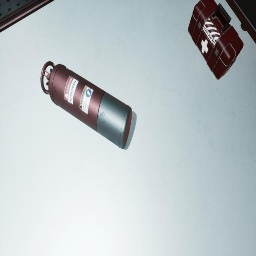FirstAidBox ,: (188, 0, 243, 79)
NitrogenTank ,: (40, 61, 132, 149)
